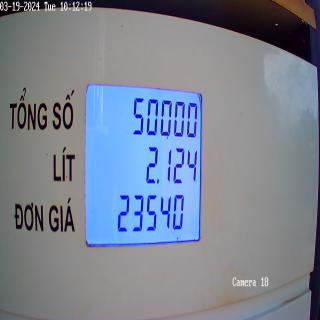screen: (81, 76, 205, 248)
